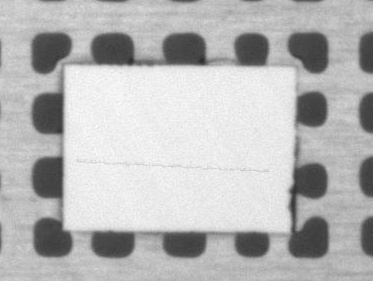DIE_CRACK: (102, 121, 356, 129)
